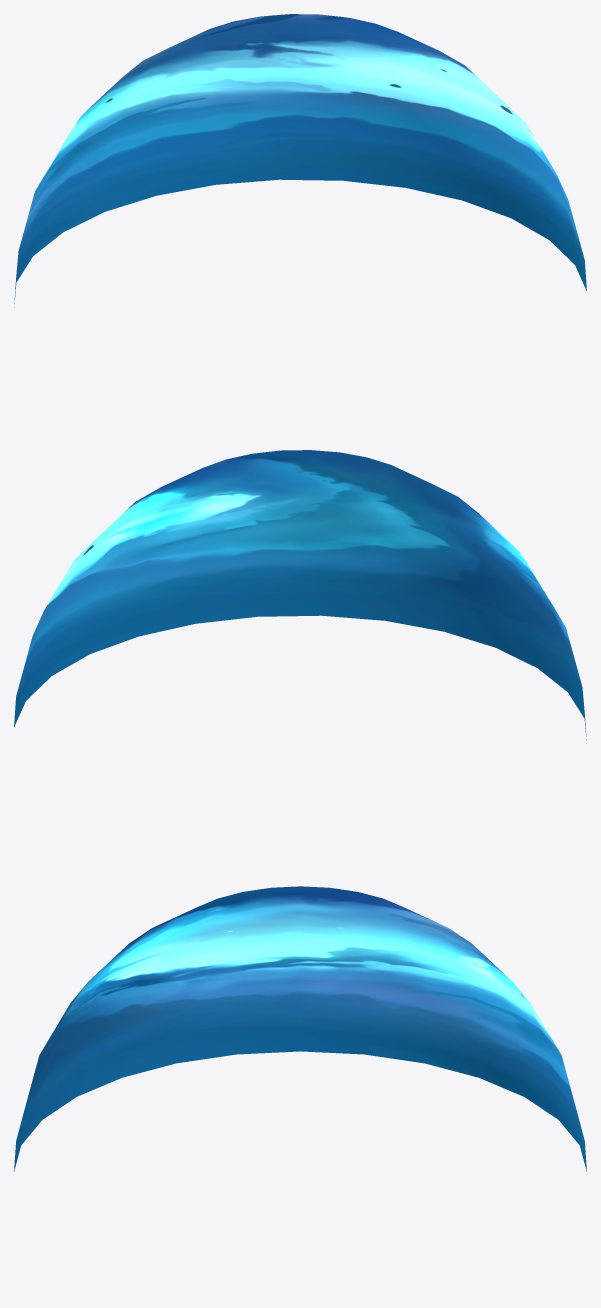
3 views of the same model, one above another, from view 1: azimuth 30°, elevation 25°; view 2: azimuth 150°, elevation 25°; view 3: azimuth 270°, elevation 25° (orthographic).
Parts seen in each view (by area): view 1: Sky_Sky_0_14; view 2: Sky_Sky_0_14; view 3: Sky_Sky_0_14.
Boxes of the visible parts, box(x1,y1,x2,y2) form: Sky_Sky_0_14: box(14, 14, 586, 307); Sky_Sky_0_14: box(14, 450, 586, 743); Sky_Sky_0_14: box(14, 886, 586, 1171).
Bounding box in the file's own units: 840 × 420 × 840.
